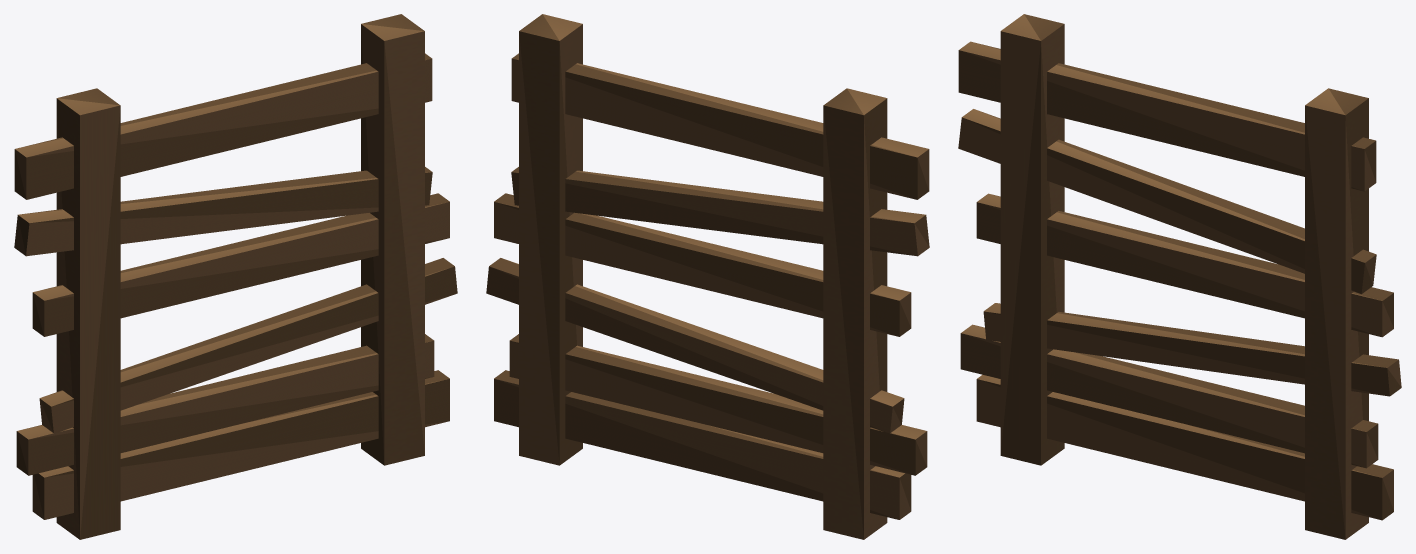
Rendered from Wood_1A.fbx.
3 renders of one model, left to right at view 1: azimuth 30°, elevation 25°; view 2: azimuth 150°, elevation 25°; view 3: azimuth 330°, elevation 25°, orthographic.
Parts seen in each view (by area): view 1: polySurface1085; view 2: polySurface1085; view 3: polySurface1085.
Part boxes in pixels (<box>): polySurface1085: <box>14,14,457,539</box>; polySurface1085: <box>486,14,929,539</box>; polySurface1085: <box>958,14,1401,539</box>.
Bounding box in the file's own units: 426 × 400 × 40.
1 material, 1 textured.
